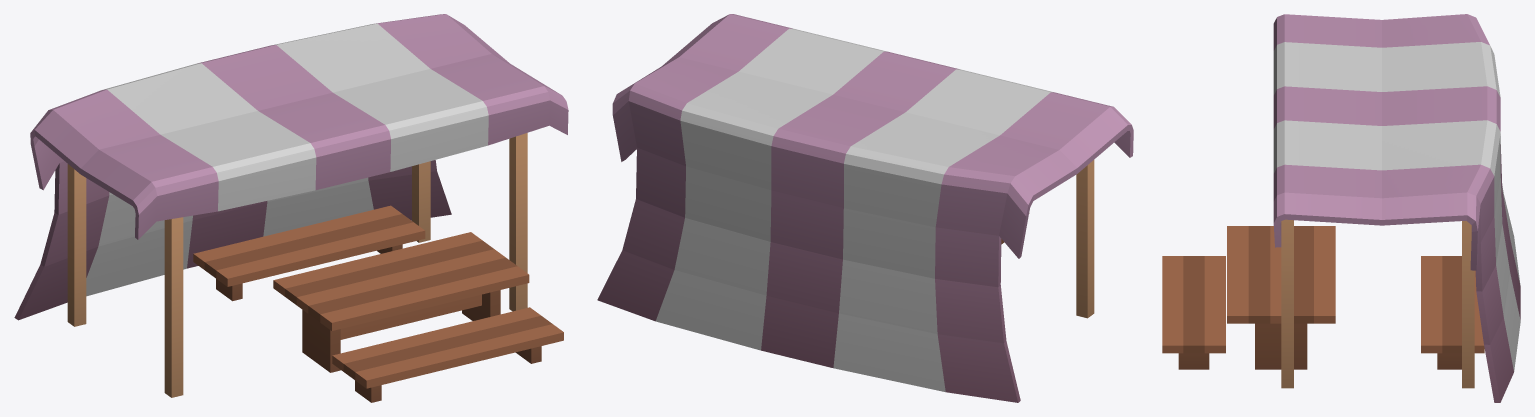
File: food-tent-3.glb
The picture shows the model from 3 angles, left to right: view 1: azimuth 30°, elevation 25°; view 2: azimuth 150°, elevation 25°; view 3: azimuth 270°, elevation 25°; orthographic projection. The views are drawn at different scales.
Parts seen in each view (by area): view 1: food tent 3; view 2: food tent 3; view 3: food tent 3.
Part boxes in pixels (x1,y1,x2,y2): food tent 3: (14,14,568,402); food tent 3: (597,14,1133,402); food tent 3: (1162,14,1520,402).
Bounding box in the file's own units: 4.67 × 2.25 × 3.58.
1 material, 1 textured.
